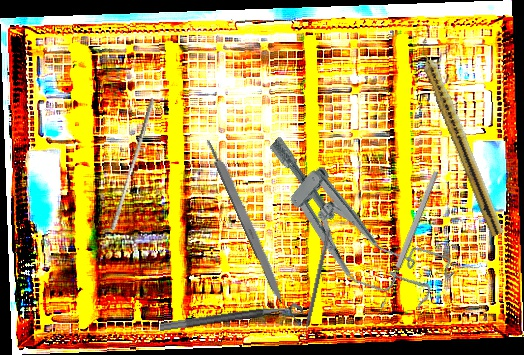Fixation Ring: (159, 302, 305, 344)
Handpiece: (413, 36, 508, 238)
Pusher: (109, 95, 156, 233)
Scalpel Handle: (204, 136, 289, 306)
Spatula Surgical: (298, 228, 331, 343)
Speculum: (237, 123, 461, 328)
Surgical Spoon: (376, 169, 441, 311)
